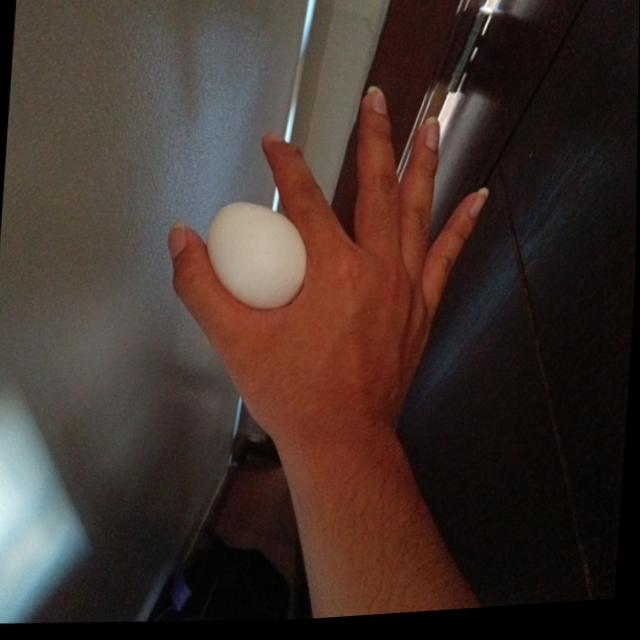egg: (203, 202, 311, 316)
